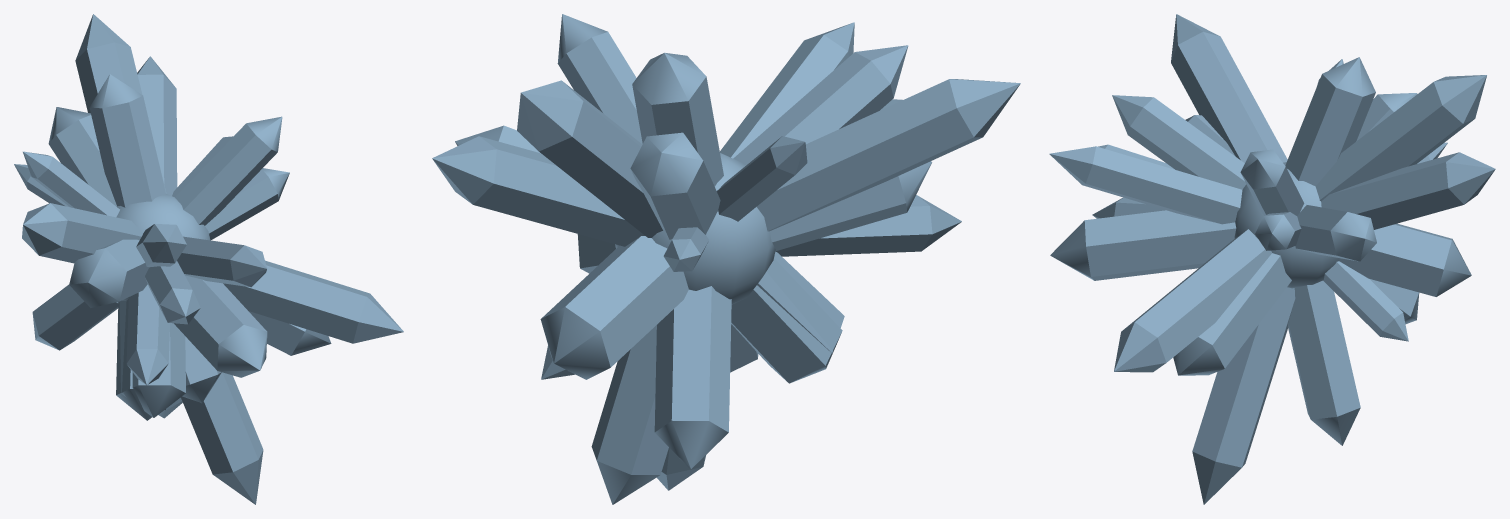
Rendered from wasserkristalle.obj.
3 renders of one model, left to right at view 1: azimuth 30°, elevation 25°; view 2: azimuth 150°, elevation 25°; view 3: azimuth 270°, elevation 25°, orthographic. The views are drawn at different scales.
Visible parts, largest first — view 1: wasserkristalle; view 2: wasserkristalle; view 3: wasserkristalle.
Part boxes in pixels (x1=…): wasserkristalle: x1=14, y1=14, x2=403, y2=504; wasserkristalle: x1=432, y1=14, x2=1020, y2=504; wasserkristalle: x1=1049, y1=14, x2=1495, y2=504.
Size of the model in its own units: 32.89 by 35.67 by 34.67.
